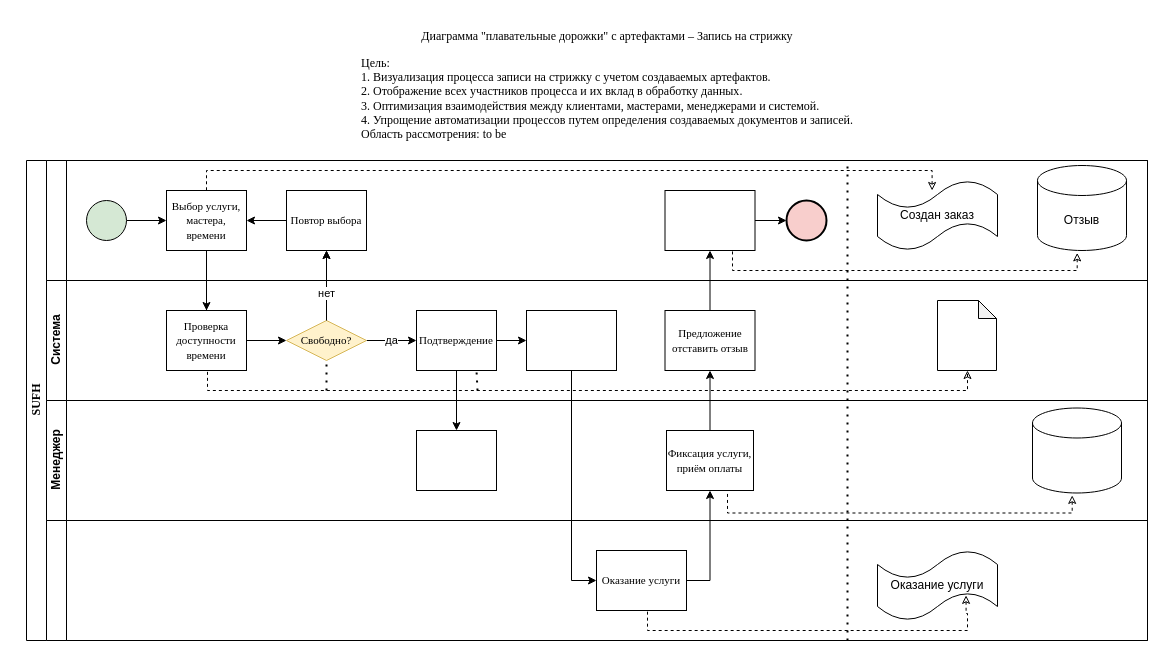
This 1165x660 diagram has some shape labels left out. The box of each missing label's shape, as (x1, y1, x2, y2) in pixels:
Выполненный заказ: (1032, 407, 1122, 493)
Запись логов: (936, 300, 996, 370)
Клиент: (46, 160, 1148, 280)
Мастер: (46, 520, 1148, 640)
Оставление отзыва: (664, 190, 755, 250)
Отправка напоминания: (526, 310, 616, 370)
Управление расписанием: (416, 430, 496, 490)
